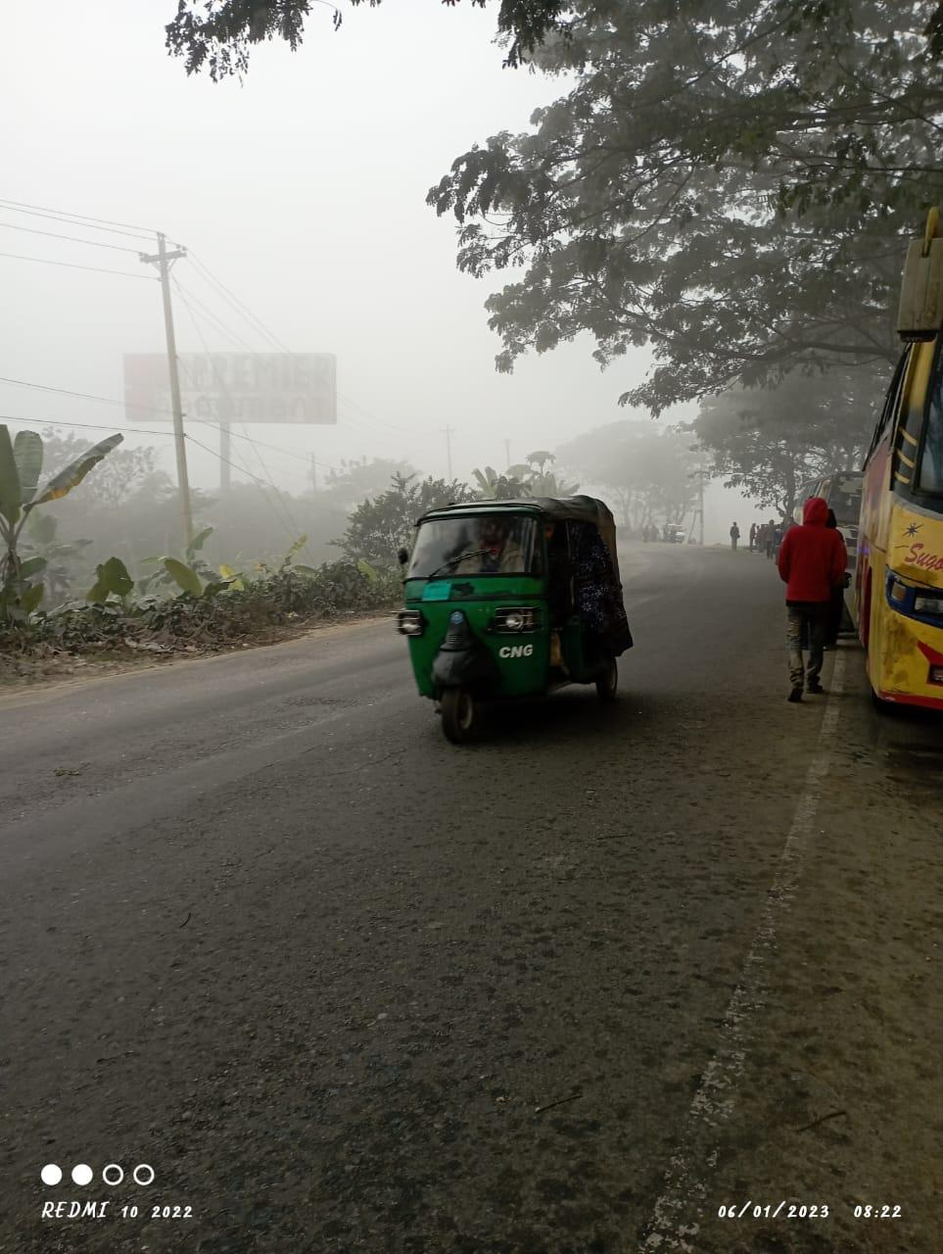Bus: (835, 204, 943, 744)
